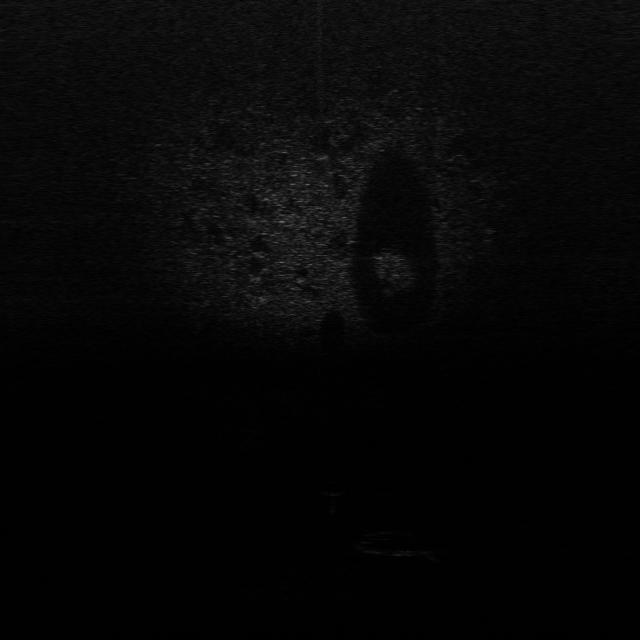ball: (318, 477, 348, 498)
tyre: (350, 526, 450, 558)
